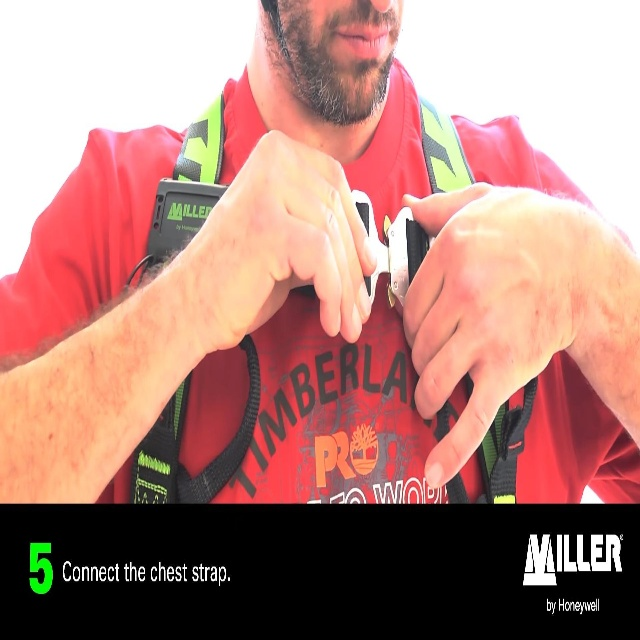Arnes_seguridad: (132, 58, 530, 515)
